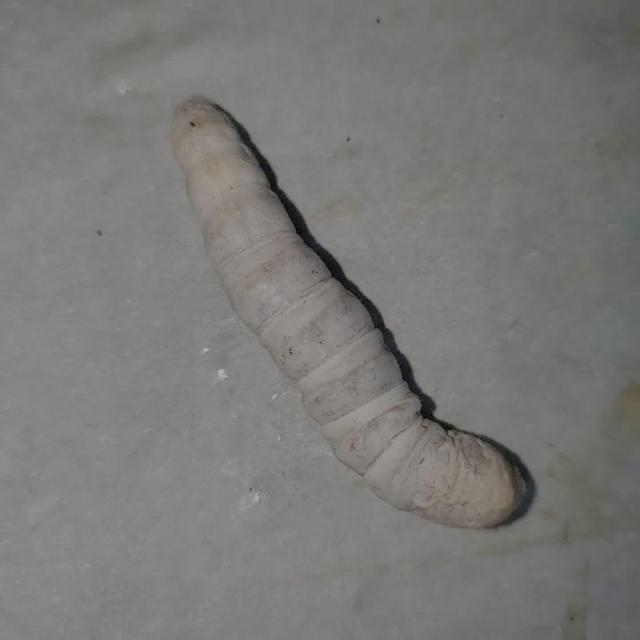Grasserie: (161, 86, 539, 536)
